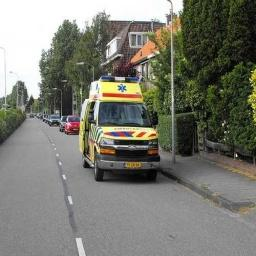Ambulance: (79, 76, 159, 180)
